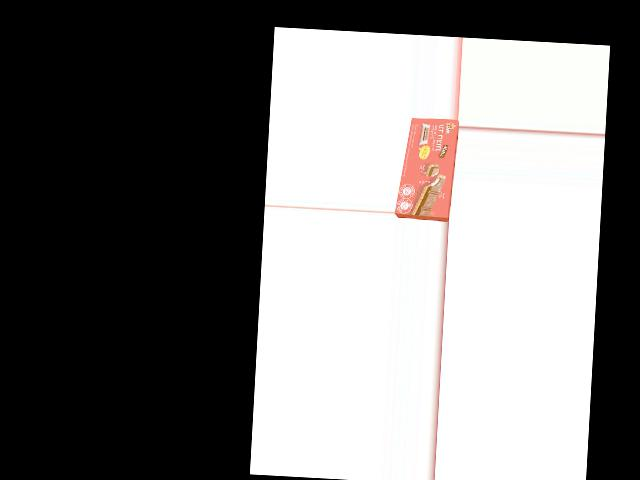chocolate: (400, 116, 455, 220)
